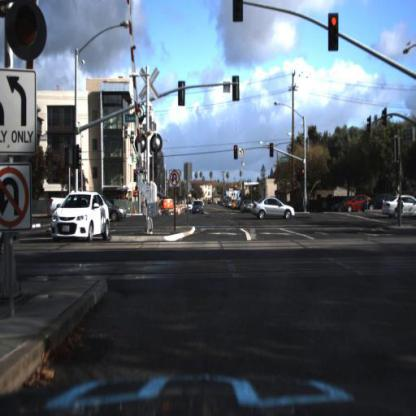car: (49, 192, 110, 244), (250, 197, 297, 222), (362, 191, 404, 214), (104, 192, 126, 224), (344, 192, 374, 215), (44, 192, 66, 213), (188, 195, 206, 216), (236, 198, 256, 214)
trafficLight: (8, 1, 44, 57), (232, 1, 244, 22)
trafficLight-Red: (327, 12, 339, 51), (268, 138, 276, 160), (300, 164, 306, 185), (232, 141, 238, 161)
